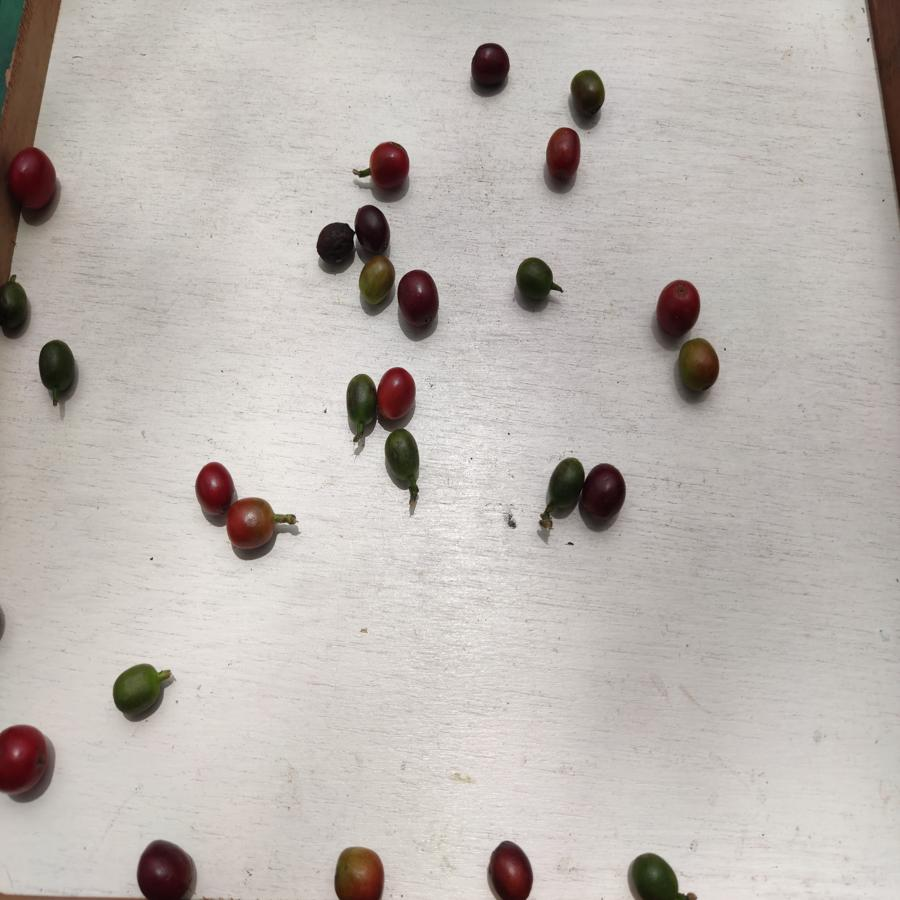Inmaduro: (112, 662, 162, 720), (630, 850, 679, 900), (382, 428, 420, 489), (36, 337, 76, 394), (343, 371, 378, 431), (549, 456, 583, 516), (515, 256, 552, 304), (1, 278, 29, 333)
Maduro: (2, 141, 60, 215), (1, 723, 48, 800), (656, 279, 701, 340), (542, 126, 582, 183), (368, 138, 410, 191), (196, 462, 235, 516), (379, 366, 417, 421)
Pinton: (331, 844, 386, 900), (227, 498, 278, 548), (676, 338, 719, 392), (570, 66, 605, 121), (359, 256, 396, 305)
Sobremaduro: (137, 835, 200, 900), (582, 460, 626, 532), (485, 841, 537, 900), (396, 267, 440, 329), (467, 42, 511, 93), (352, 204, 389, 252), (314, 222, 357, 263)
